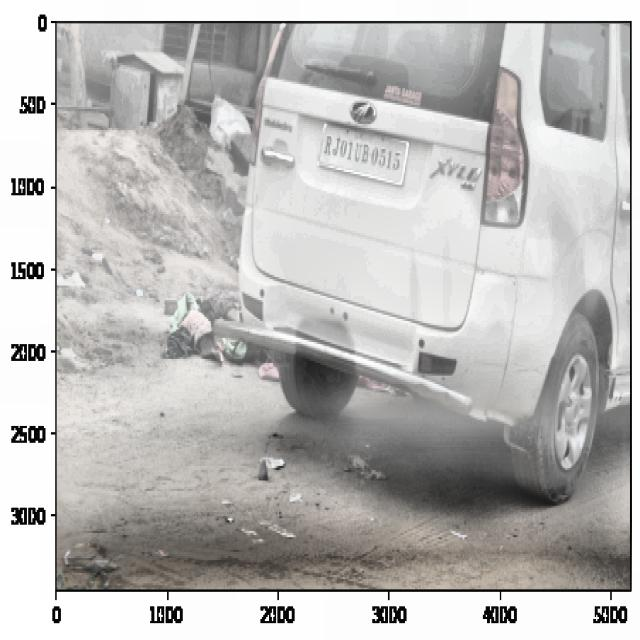license_plate: (322, 125, 405, 181)
